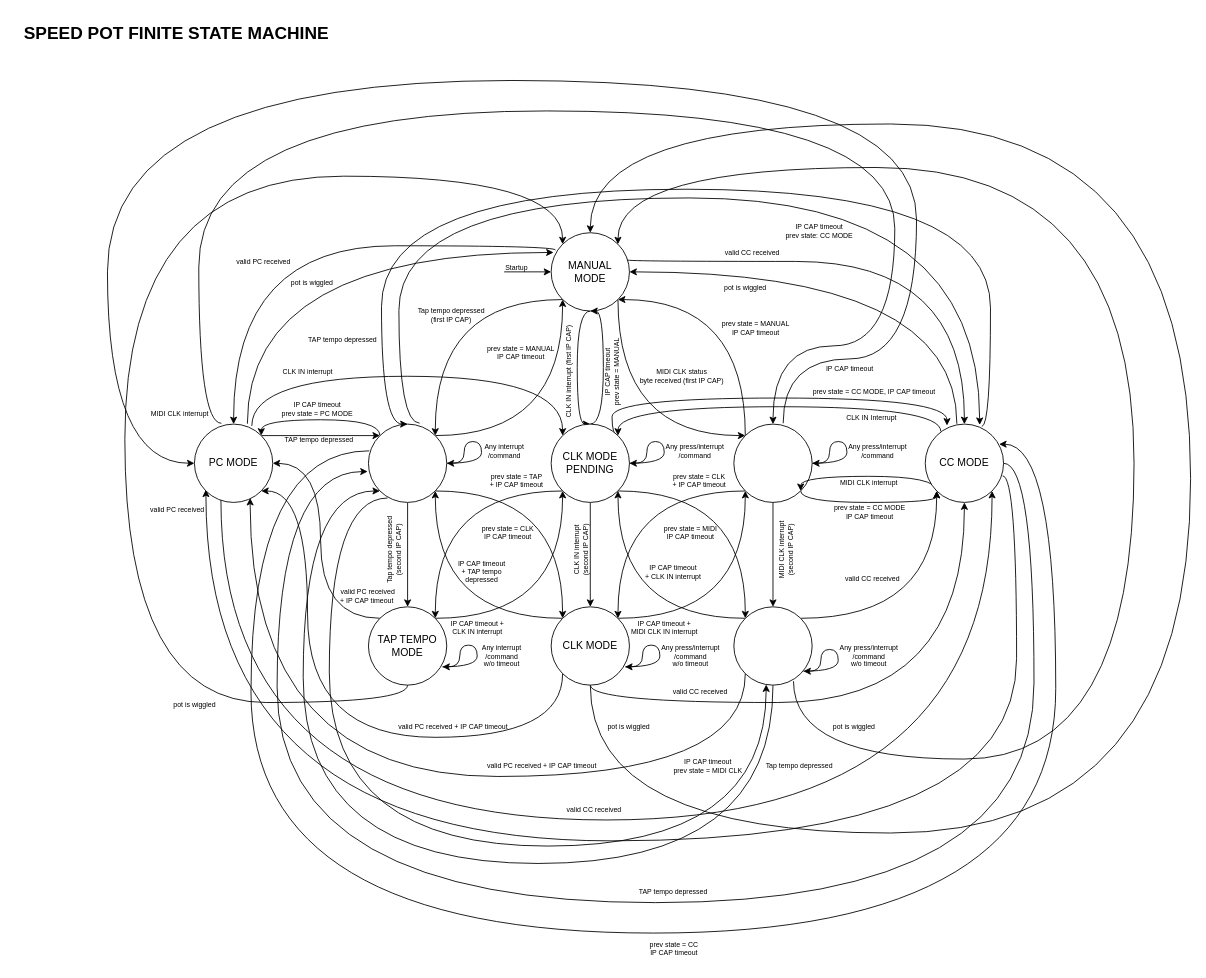
Some shapes in this 1206 by 978 pixel diagram are drawn without their labels. The centre of each missing label's shape, as x and y in pixels:
"MIDI CLK MODE" goes at (x=772, y=645).
"MIDI CLK MODE PENDING" goes at (x=772, y=462).
"TAP TEMPO MODE PENDING" goes at (x=407, y=462).
